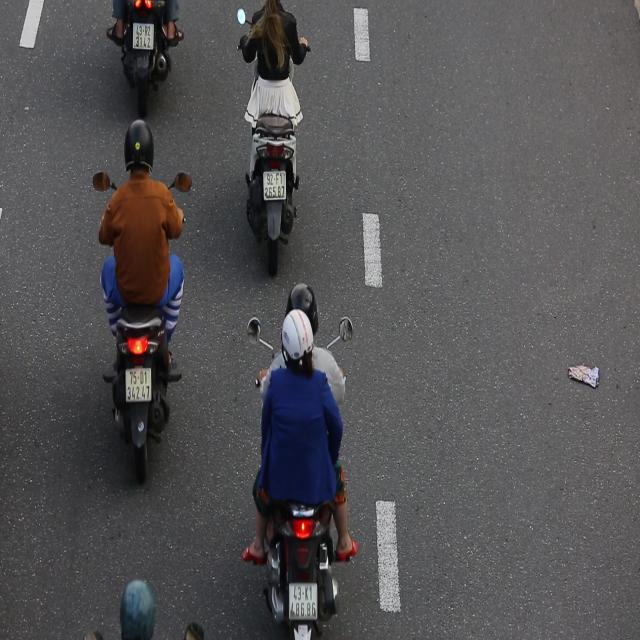motorbike: (88, 115, 203, 495), (245, 277, 362, 640)
